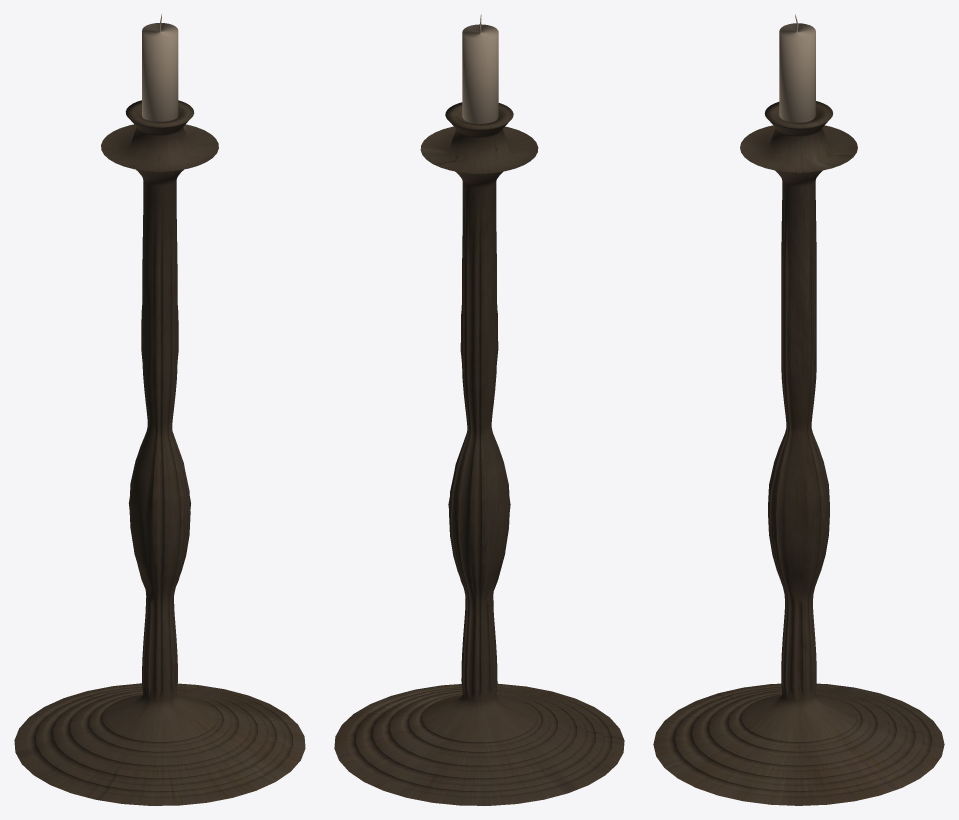
Rendered from Candlestick2.obj.
The picture shows the model from 3 angles, left to right: view 1: azimuth 30°, elevation 25°; view 2: azimuth 150°, elevation 25°; view 3: azimuth 270°, elevation 25°; orthographic projection.
Parts seen in each view (by area): view 1: Candlestick_2, Candle; view 2: Candlestick_2, Candle; view 3: Candlestick_2, Candle.
Boxes of the visible parts, x1,y1,x2,y2 form: Candlestick_2: (14, 100, 305, 805); Candle: (142, 14, 178, 121); Candlestick_2: (334, 102, 624, 805); Candle: (462, 14, 498, 123); Candlestick_2: (653, 101, 944, 805); Candle: (779, 14, 815, 122).
Bounding box in the file's own units: 0.1837 × 0.5085 × 0.1837.
